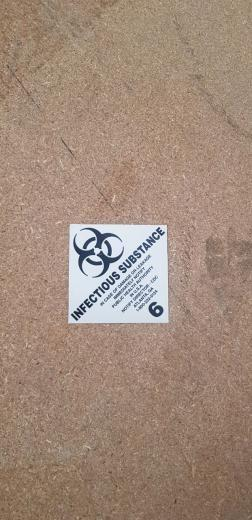infectious-substance: (68, 224, 169, 324)
